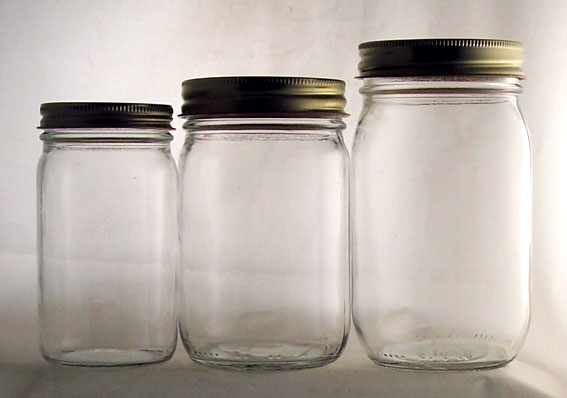Rec_Glass: (349, 28, 535, 374), (173, 73, 358, 376), (35, 94, 184, 376)
